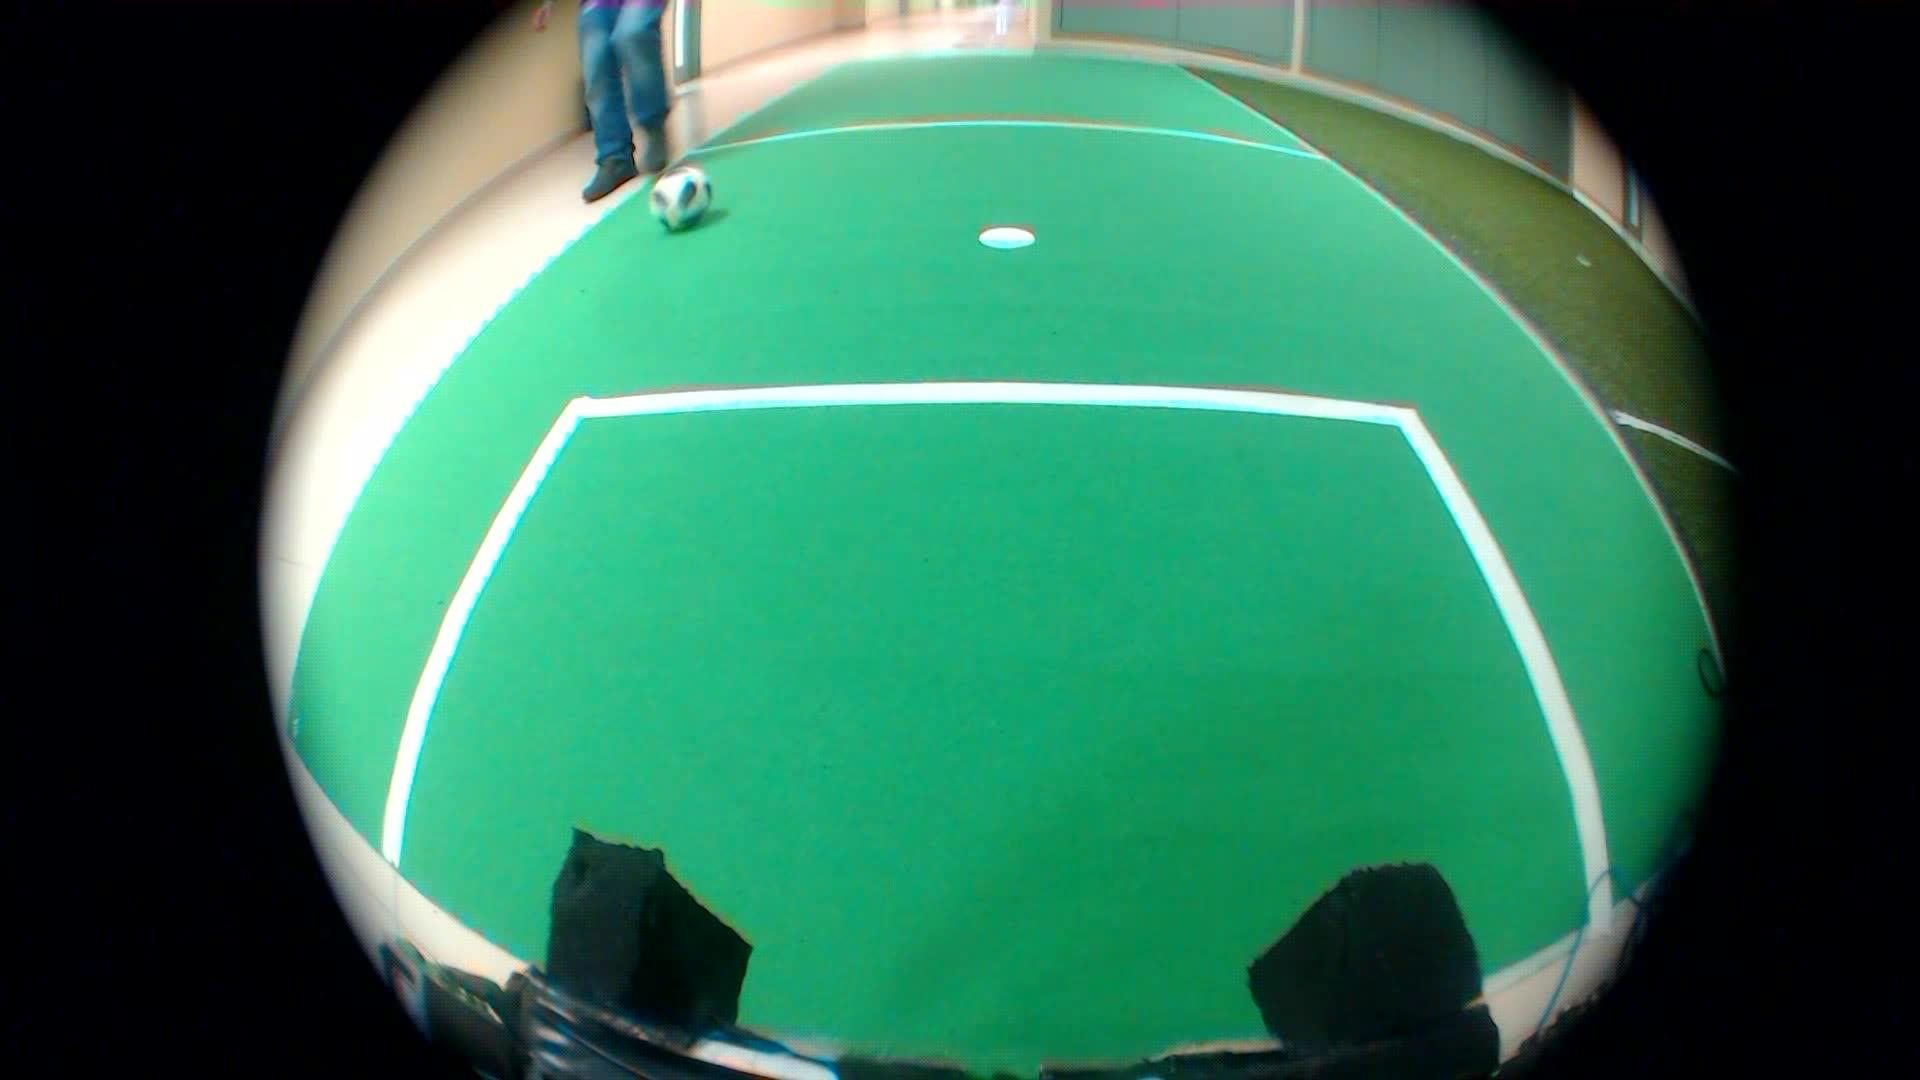ball: (638, 146, 721, 240)
